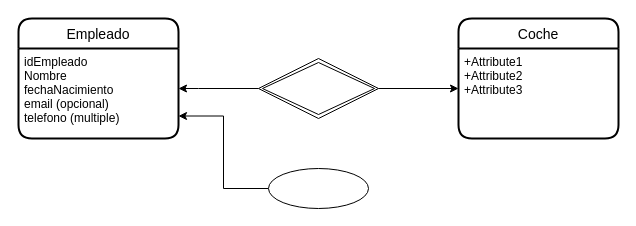
Some shapes in this 636 by 226 pixel diagram are drawn without their labels. Here are the shapes that lost their labels. From the top down, the box of each, then its label:
(258, 58, 378, 118): Asignar
(268, 168, 368, 208): Telefono
